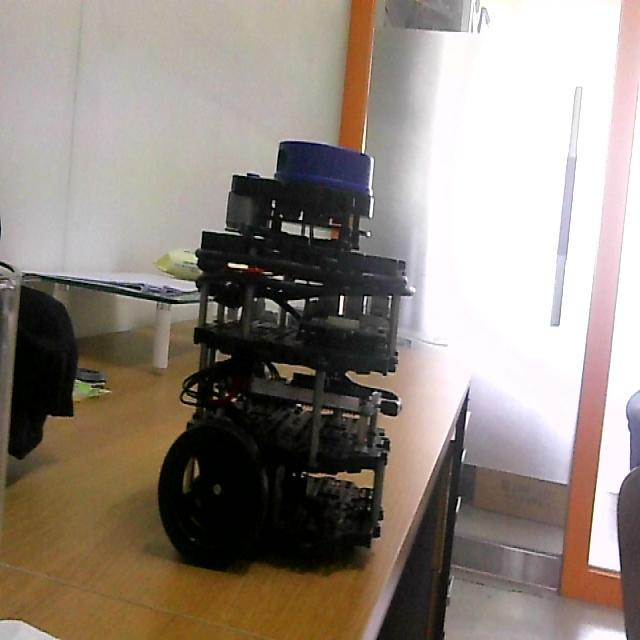turtle: (156, 139, 419, 574)
